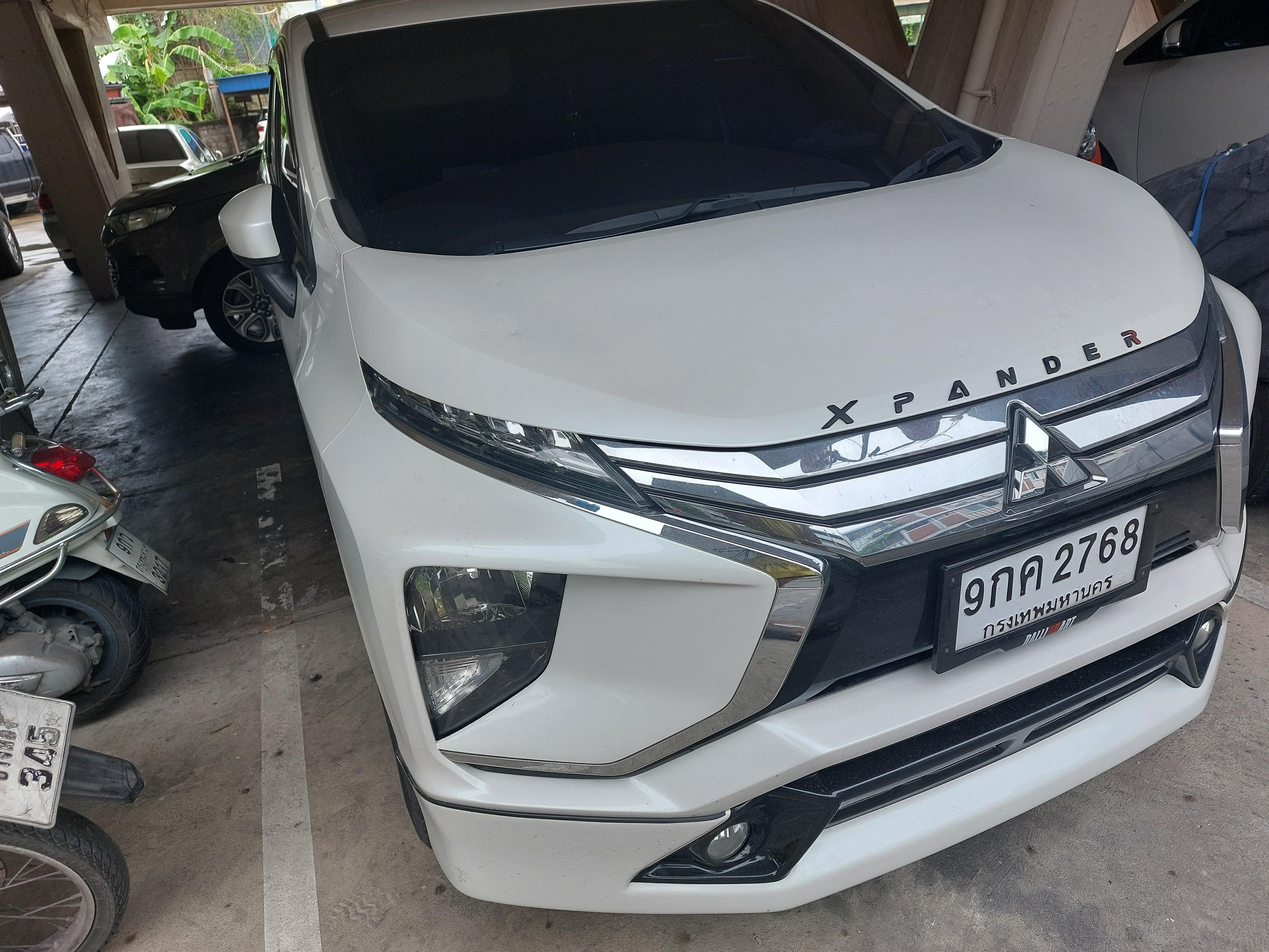license-plate: (929, 487, 1172, 673)
